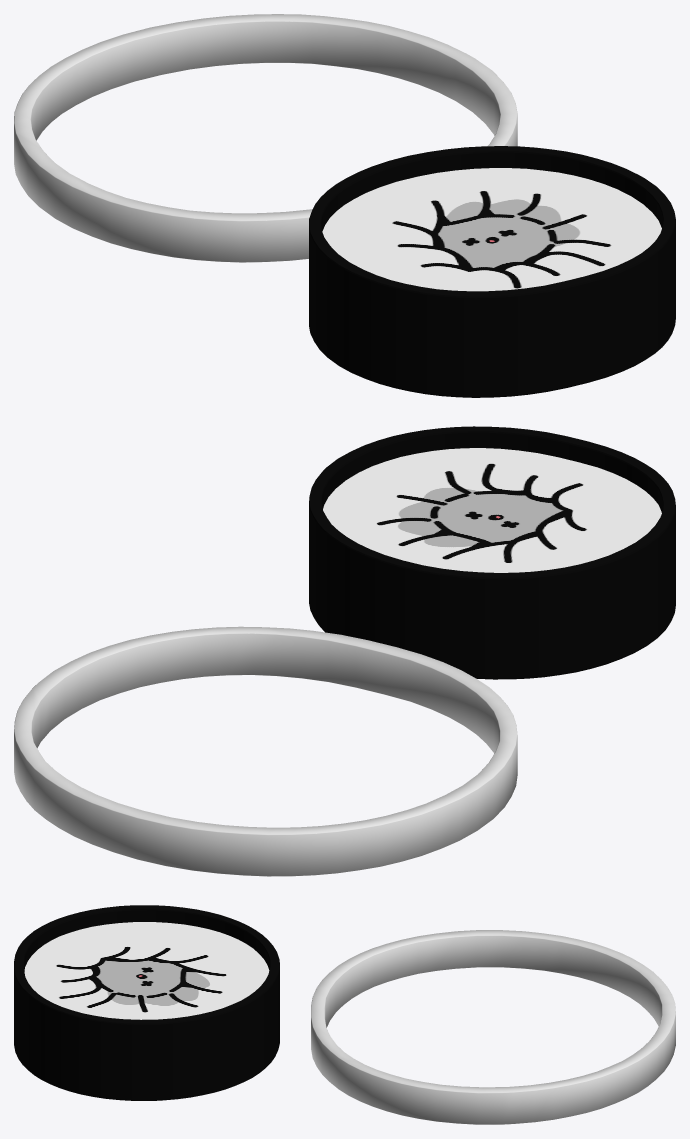
3 renders of one model, top to bottom at view 1: azimuth 30°, elevation 25°; view 2: azimuth 150°, elevation 25°; view 3: azimuth 270°, elevation 25°, orthographic. The views are drawn at different scales.
Visible parts, largest first — view 1: Circle, Plane.003; view 2: Circle, Plane.003; view 3: Circle, Plane.003.
Part boxes in pixels (left/top/right/bottom): Circle: left=309, top=146, right=675, bottom=397; Plane.003: left=14, top=14, right=517, bottom=262; Circle: left=309, top=426, right=675, bottom=679; Plane.003: left=14, top=626, right=517, bottom=876; Circle: left=14, top=905, right=279, bottom=1100; Plane.003: left=311, top=930, right=675, bottom=1124.
Bounding box in the file's own units: 1.64 × 0.3707 × 2.81.
Materials: 1 (1 with a texture image).
